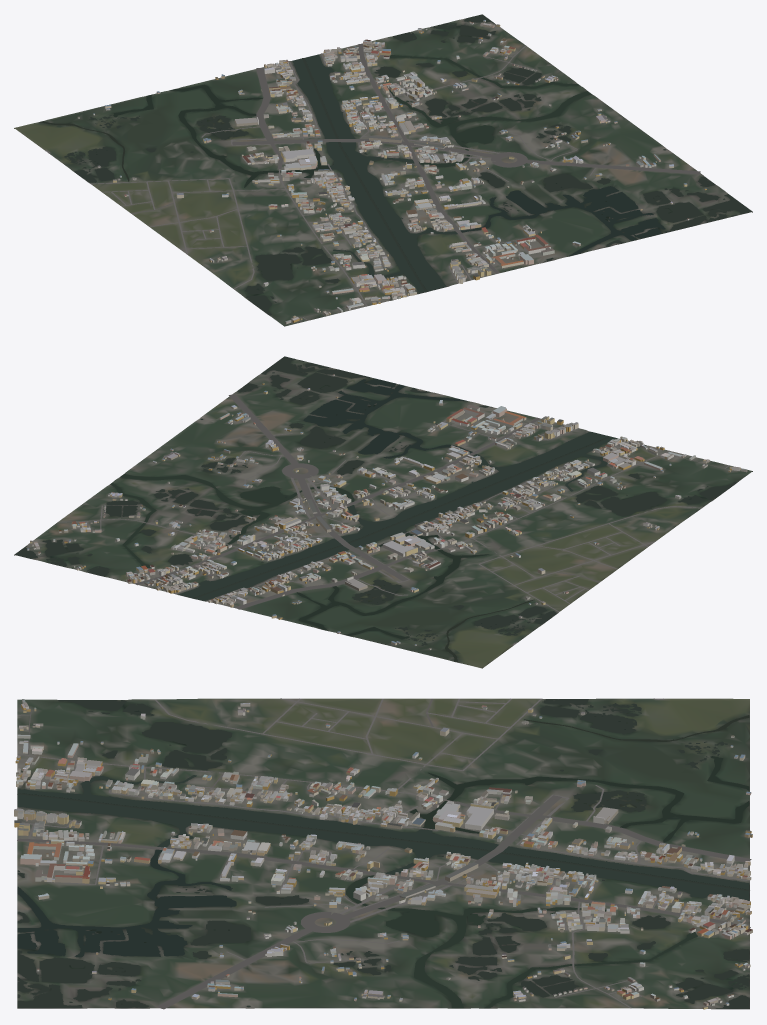
3 views of the same model, one above another, from view 1: azimuth 30°, elevation 25°; view 2: azimuth 150°, elevation 25°; view 3: azimuth 270°, elevation 25° (orthographic). The views are drawn at different scales.
Parts seen in each view (by area): view 1: ground, water, buildings, roads; view 2: ground, water, buildings, roads; view 3: ground, water, buildings, roads.
Boxes of the visible parts, x1,y1,x2,y2 form: ground: (14, 15, 752, 326); water: (39, 14, 751, 315); buildings: (77, 20, 706, 324); roads: (45, 44, 700, 320); ground: (14, 357, 752, 668); water: (15, 356, 736, 662); buildings: (27, 374, 747, 649); roads: (58, 394, 729, 645); ground: (17, 698, 749, 1009); water: (17, 699, 749, 1008); buildings: (14, 699, 752, 1009); roads: (17, 698, 751, 1009).
Bounding box in the file's own units: 1408 × 19.76 × 1413.
